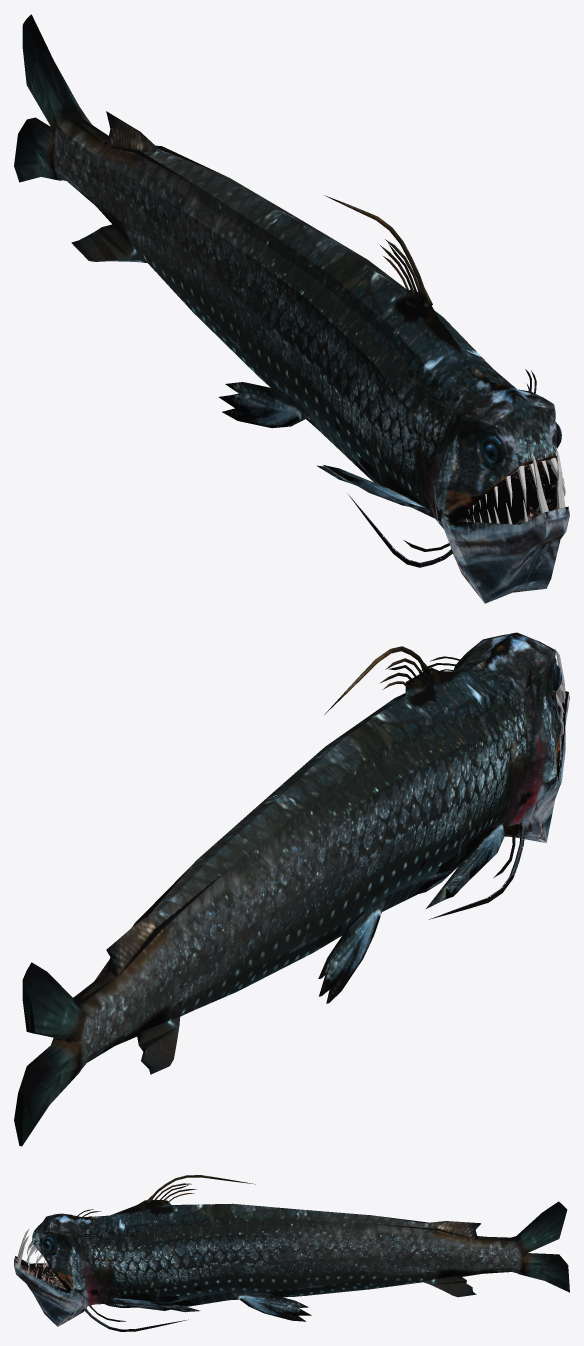
File: fish_01.fbx
3 renders of one model, top to bottom at view 1: azimuth 30°, elevation 25°; view 2: azimuth 150°, elevation 25°; view 3: azimuth 270°, elevation 25°, orthographic. The views are drawn at different scales.
Parts seen in each view (by area): view 1: body, jaw, Cylinder; view 2: body, jaw, Cylinder.008; view 3: body, jaw, Cylinder.008, Cylinder.
Boxes of the visible parts, box(x1,y1,x2,y2) form: body: box(14, 14, 561, 528); jaw: box(441, 496, 569, 603); Cylinder: box(324, 195, 432, 306); body: box(14, 632, 561, 1146); jaw: box(503, 689, 569, 842); Cylinder.008: box(429, 824, 526, 919); body: box(32, 1200, 569, 1321); jaw: box(14, 1256, 88, 1326); Cylinder.008: box(84, 1303, 188, 1331); Cylinder: box(146, 1175, 255, 1202).
Size of the model in its own units: 2706 by 4791 by 16678.
